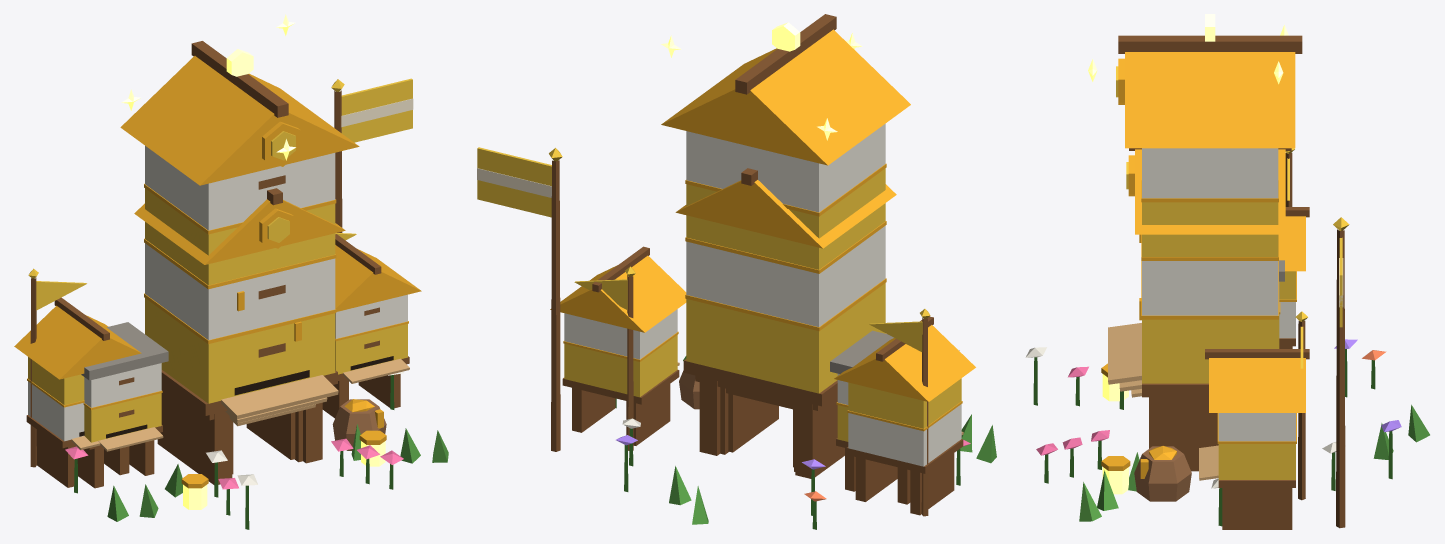
File: bee-apiary-lv.glb
3 views of the same model, side by side, from view 1: azimuth 30°, elevation 25°; view 2: azimuth 150°, elevation 25°; view 3: azimuth 270°, elevation 25° (orthographic). The views are drawn at different scales.
Visible parts, largest first — view 1: lv3, lv2, lv1; view 2: lv3, lv2, lv1; view 3: lv3, lv2, lv1.
Part boxes in pixels (bbox=[...]): lv3: bbox=[14, 14, 448, 529]; lv2: bbox=[77, 188, 420, 517]; lv1: bbox=[165, 404, 360, 497]; lv3: bbox=[477, 14, 996, 529]; lv2: bbox=[574, 168, 972, 515]; lv1: bbox=[726, 388, 793, 467]; lv3: bbox=[1025, 14, 1429, 529]; lv2: bbox=[1062, 148, 1393, 510]; lv1: bbox=[1091, 389, 1141, 491].
Bounding box in the file's own units: 1.95 × 1.82 × 1.55.
